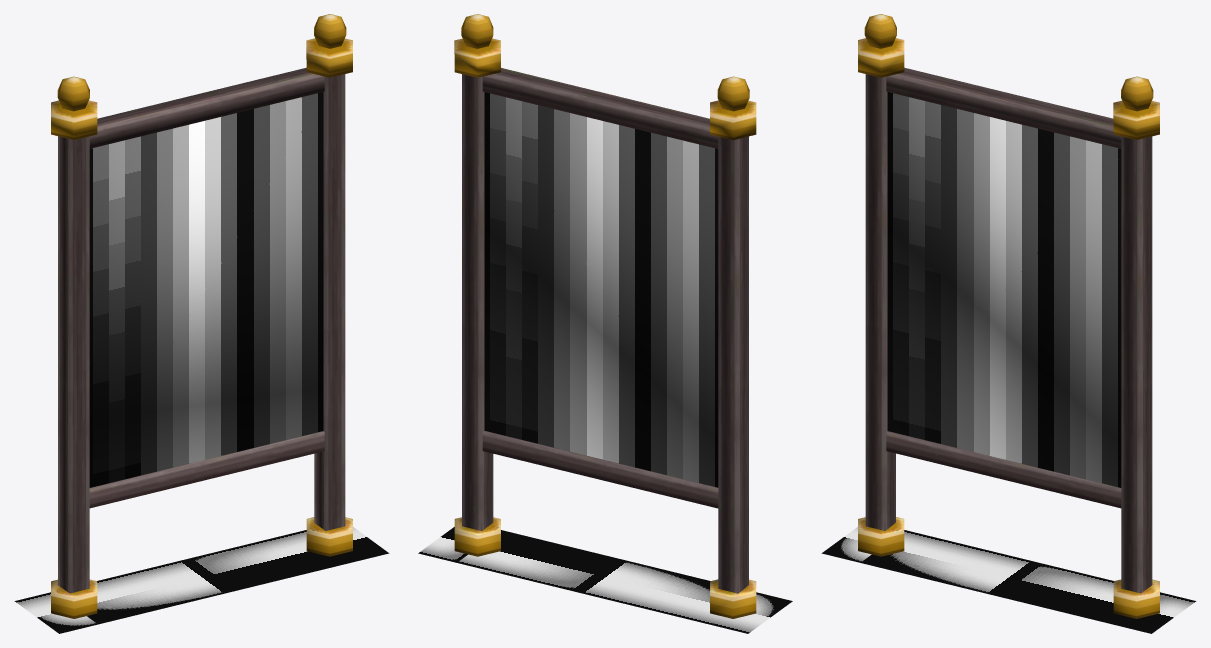
File: robj_ms_poster.dae
3 views of the same model, side by side, from view 1: azimuth 30°, elevation 25°; view 2: azimuth 150°, elevation 25°; view 3: azimuth 330°, elevation 25° (orthographic).
Visible parts, largest first — view 1: robj_ms_poster; view 2: robj_ms_poster; view 3: robj_ms_poster.
Part boxes in pixels (x1=…): robj_ms_poster: x1=14, y1=14, x2=389, y2=633; robj_ms_poster: x1=418, y1=14, x2=792, y2=633; robj_ms_poster: x1=821, y1=14, x2=1196, y2=633.
Size of the model in its own units: 34 by 52.29 by 8.
Materials: 4 (4 with a texture image).
